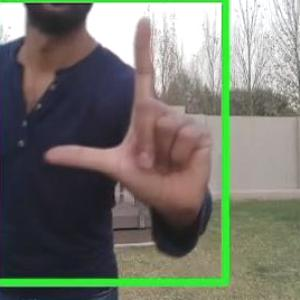land_hand: (43, 11, 218, 217)
